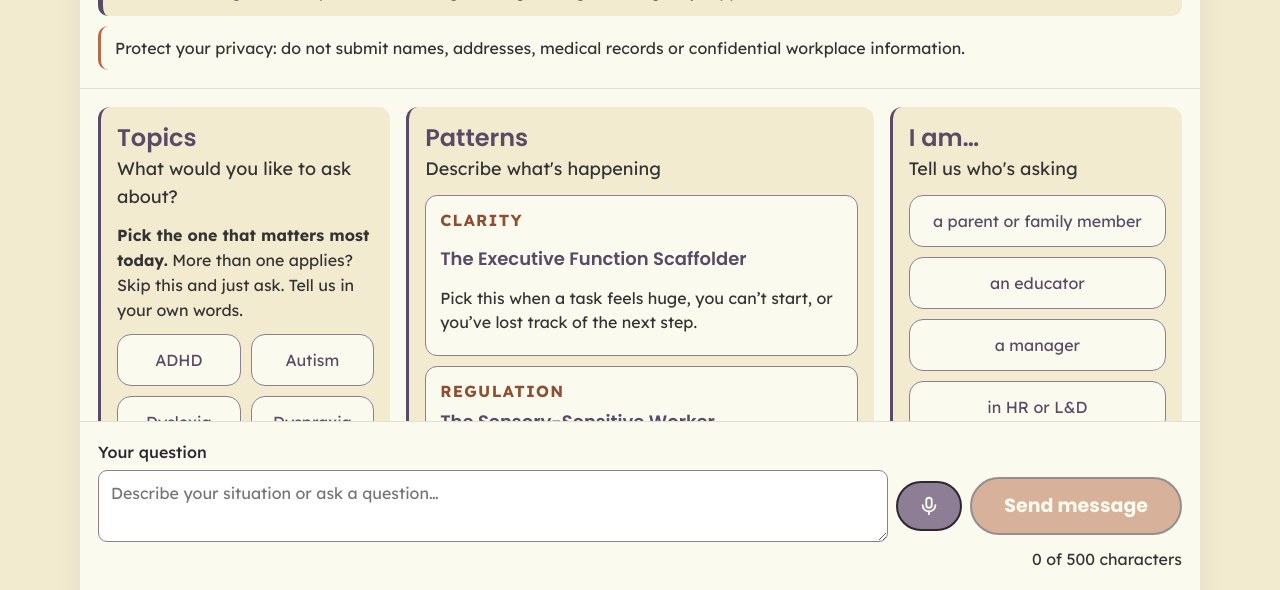
Scenario: Ask NeuroThinkHub pilot UI › renders response formatting without exposing Markdown symbols
This screenshot has width=1280, height=590.
In the text box labelled "Your question": point(493, 506) [98,471,888,542], type "How can I begin?"
Then press Enter
(page scrolled)
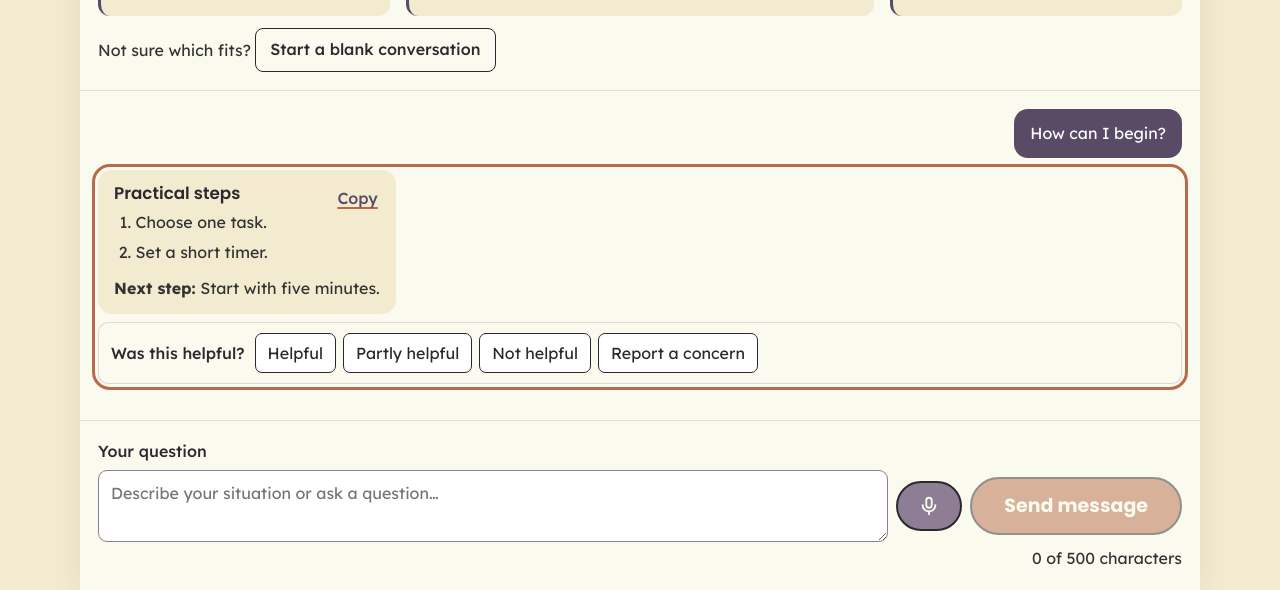
Expected: the heading "Practical steps" is shown, [114,181,240,205]
Expected: the list is shown, [136,212,268,262]
